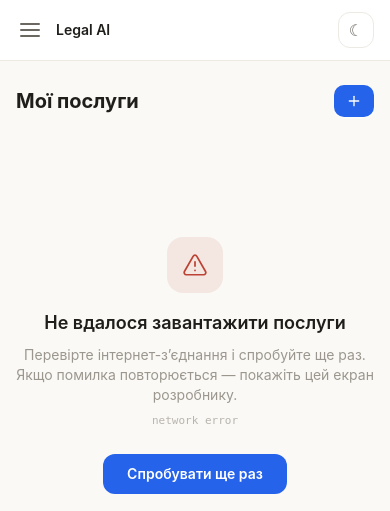
Scenario: DashboardPage — load failure is an error, not an empty catalog (#88 §5) › retry refetches and renders the catalog after a transient failure
The image size is (390, 511).
Expected: the heading "Не вдалося завантажити послуги" is shown, [44,312,346,333]
Click the button "Спробувати ще раз": point(195, 474) [103,454,287,494]
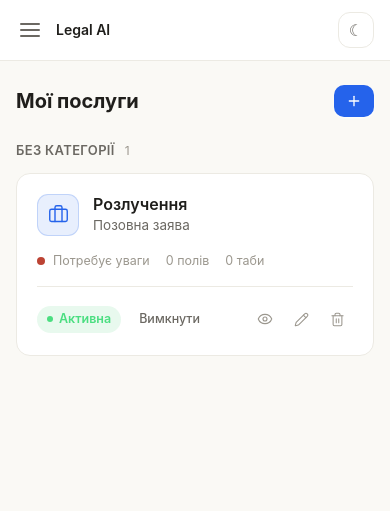
Expected: the heading "Розлучення" is shown, [93,194,190,214]
Expected: the heading "Не вдалося завантажити послуги" is gone
